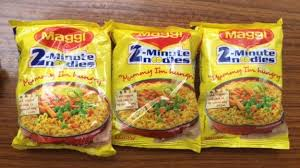maggie: (15, 20, 111, 153), (196, 24, 288, 154), (111, 25, 199, 152)
